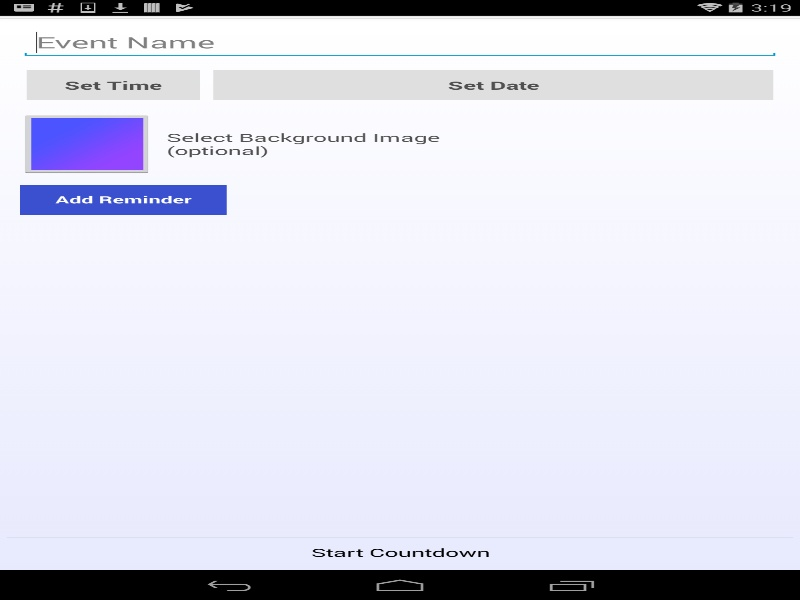Button: (0, 537, 800, 567), (213, 70, 773, 100), (20, 112, 153, 175), (20, 184, 226, 214), (26, 70, 200, 100)
Input: (20, 27, 780, 57)
